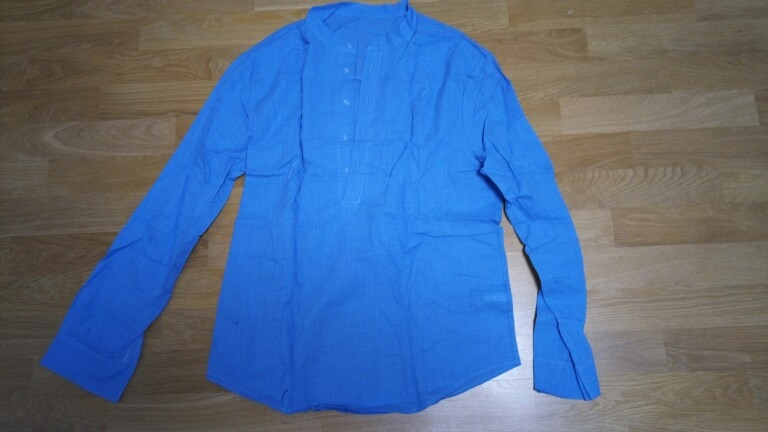shirts: (50, 10, 611, 418)
